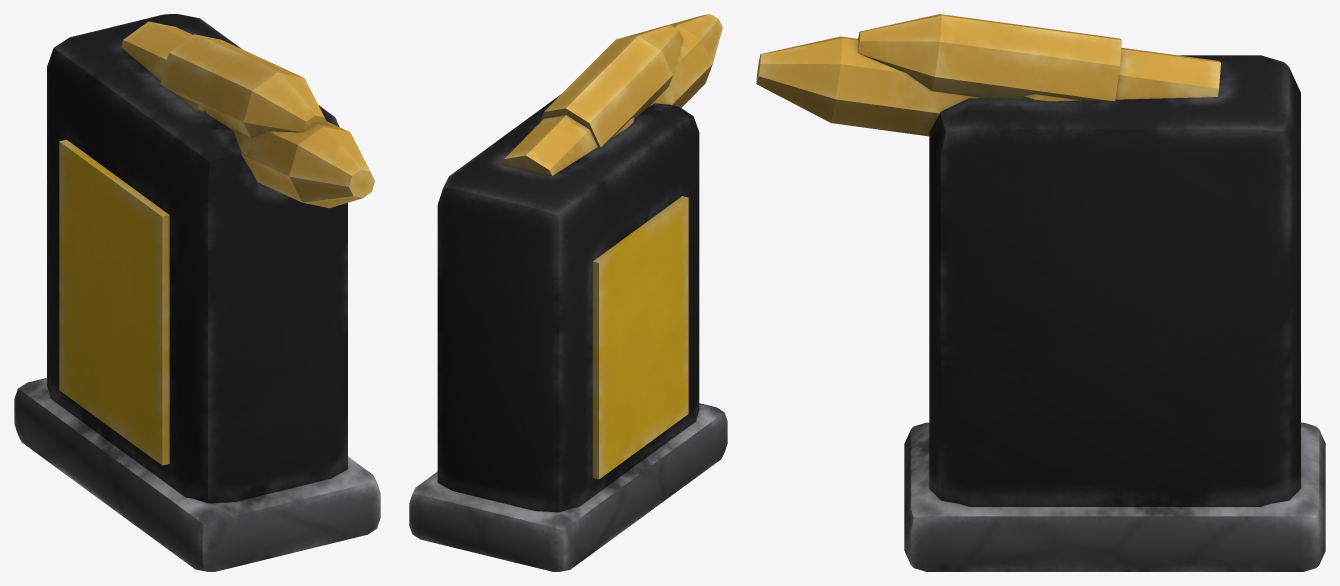
Rendered from pk_clip.glb.
3 renders of one model, left to right at view 1: azimuth 30°, elevation 25°; view 2: azimuth 150°, elevation 25°; view 3: azimuth 270°, elevation 25°, orthographic. The views are drawn at different scales.
Parts seen in each view (by area): view 1: pk_clip; view 2: pk_clip; view 3: pk_clip.
Boxes of the visible parts, bbox=[...] form: pk_clip: bbox=[14, 14, 380, 571]; pk_clip: bbox=[409, 14, 727, 571]; pk_clip: bbox=[756, 14, 1325, 571].
Size of the model in its own units: 0.1187 by 0.2868 by 0.2873.
Materials: 1 (1 with a texture image).
